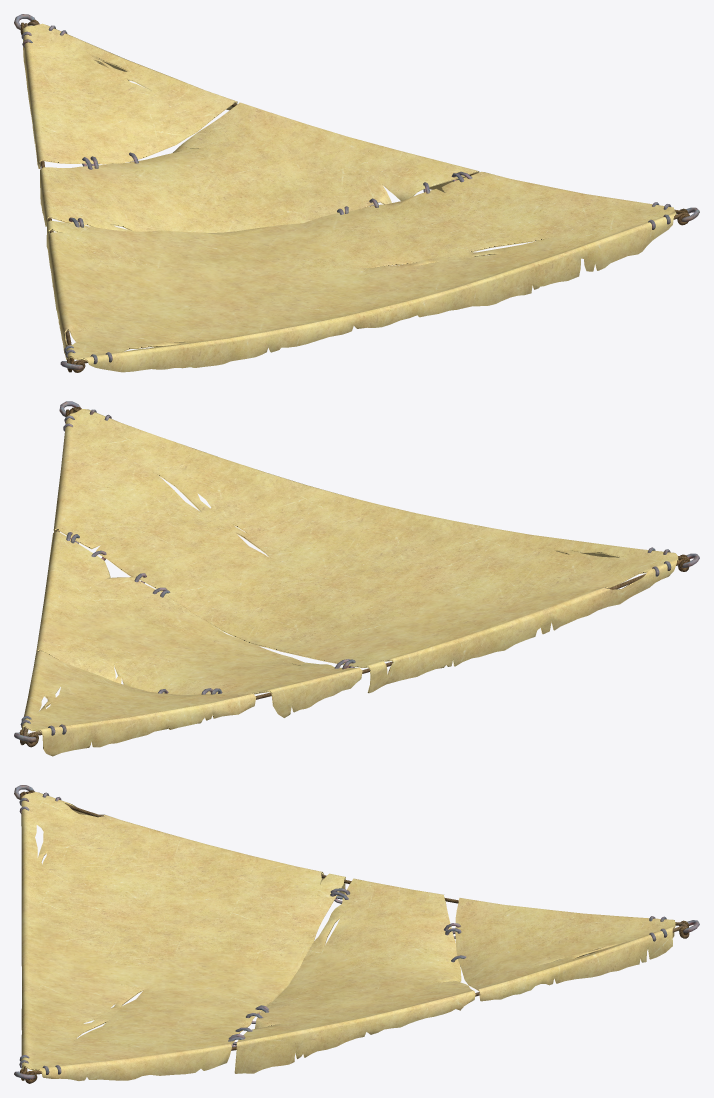
3 renders of one model, top to bottom at view 1: azimuth 30°, elevation 25°; view 2: azimuth 150°, elevation 25°; view 3: azimuth 270°, elevation 25°, orthographic. The views are drawn at different scales.
Parts seen in each view (by area): view 1: SM_Moon_Garou_Overhang_Triangle_Strapless_01v1_LOD0; view 2: SM_Moon_Garou_Overhang_Triangle_Strapless_01v1_LOD0; view 3: SM_Moon_Garou_Overhang_Triangle_Strapless_01v1_LOD0.
Boxes of the visible parts, x1=… form: SM_Moon_Garou_Overhang_Triangle_Strapless_01v1_LOD0: x1=14, y1=14, x2=699, y2=372; SM_Moon_Garou_Overhang_Triangle_Strapless_01v1_LOD0: x1=14, y1=401, x2=699, y2=756; SM_Moon_Garou_Overhang_Triangle_Strapless_01v1_LOD0: x1=14, y1=785, x2=699, y2=1083.
Bounding box in the file's own units: 14.41 × 1.48 × 14.34.
3 materials, 3 textured.
